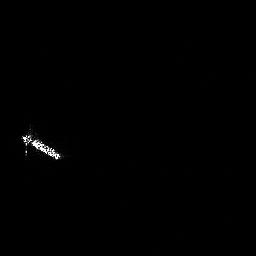ship: (18, 129, 65, 164)
